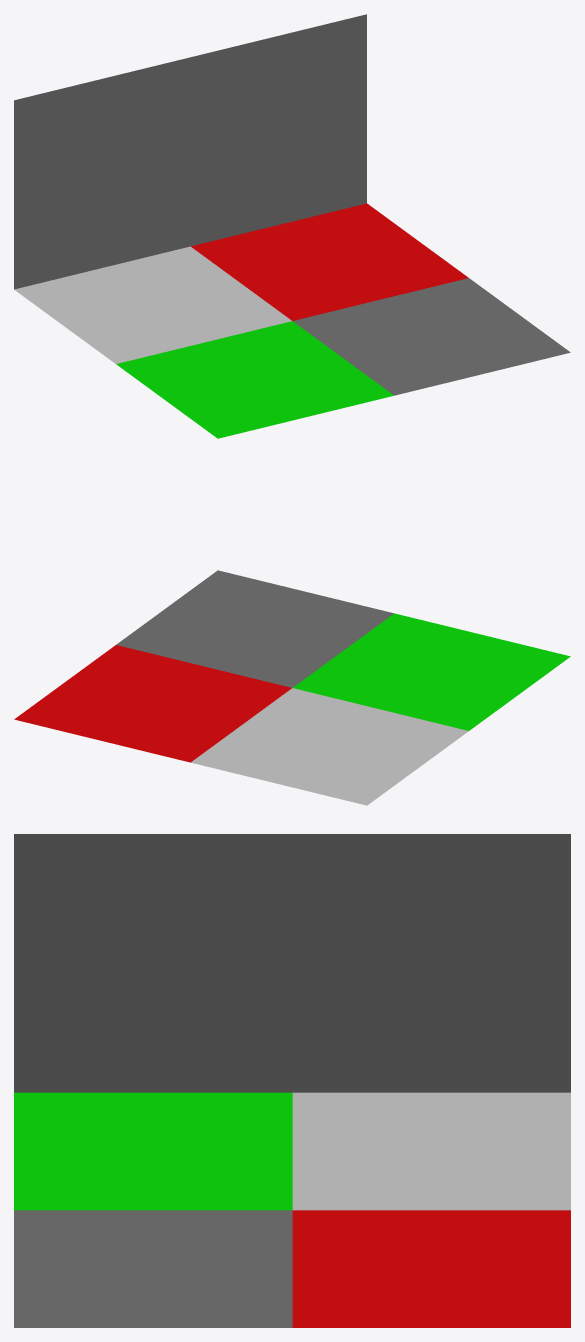
The model's file is probe_arena.glb.
3 views of the same model, one above another, from view 1: azimuth 30°, elevation 25°; view 2: azimuth 150°, elevation 25°; view 3: azimuth 270°, elevation 25° (orthographic). The views are drawn at different scales.
Visible parts, largest first — view 1: Plane; view 2: Plane; view 3: Plane.
Part boxes in pixels (box(x1,y1,x2,y2)): Plane: box(14, 14, 570, 438); Plane: box(14, 570, 570, 805); Plane: box(14, 834, 570, 1327).
Bounding box in the file's own units: 10 × 5.12 × 10.
